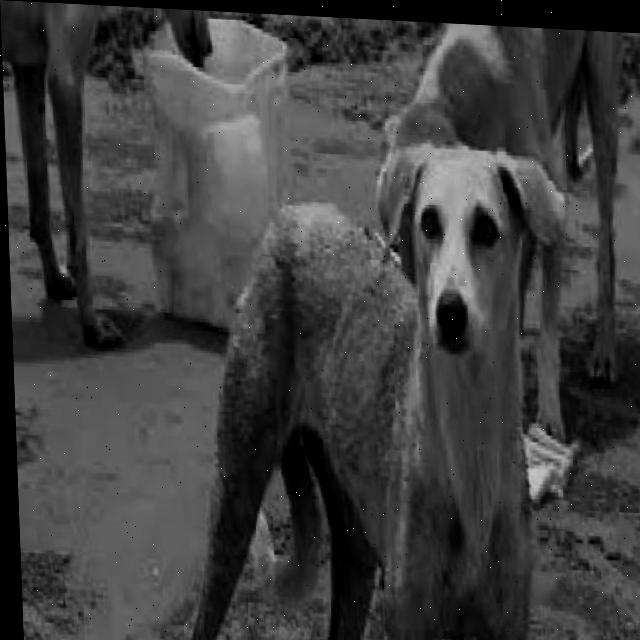Dog: (166, 126, 577, 640), (365, 19, 637, 397), (0, 0, 233, 373)
